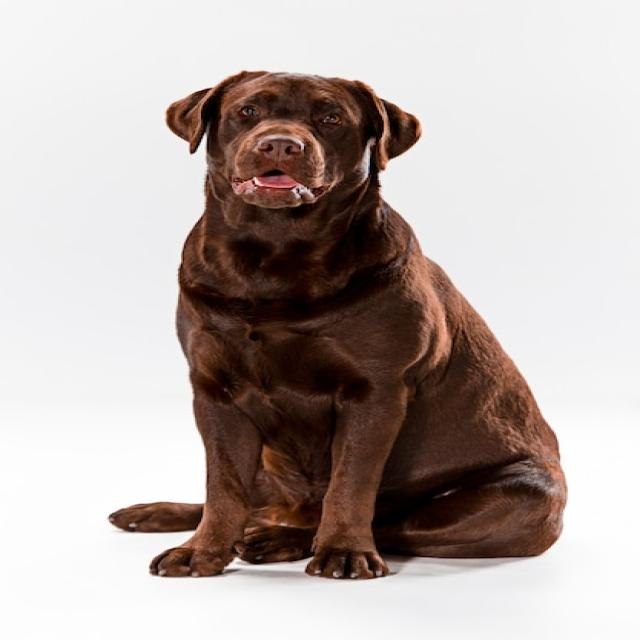Dog: (105, 70, 566, 580)
